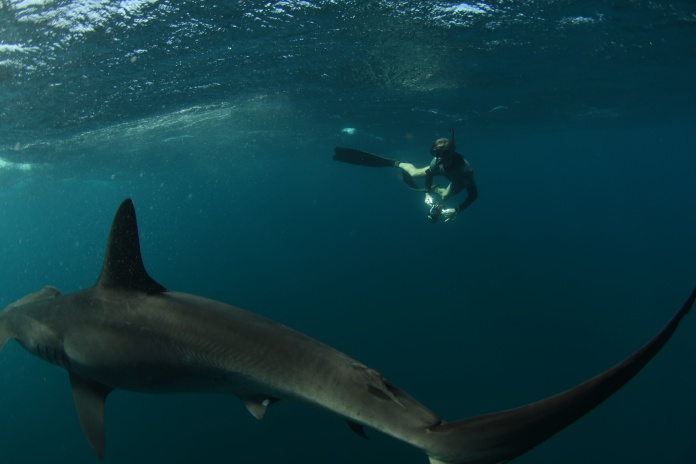Hammer: (3, 186, 696, 461)
